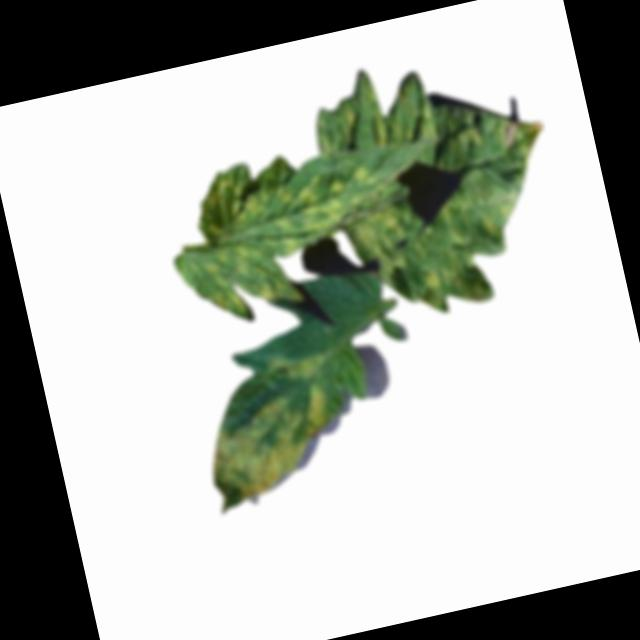Leaf_Mold: (304, 36, 577, 329), (156, 135, 400, 336), (189, 346, 358, 516)
